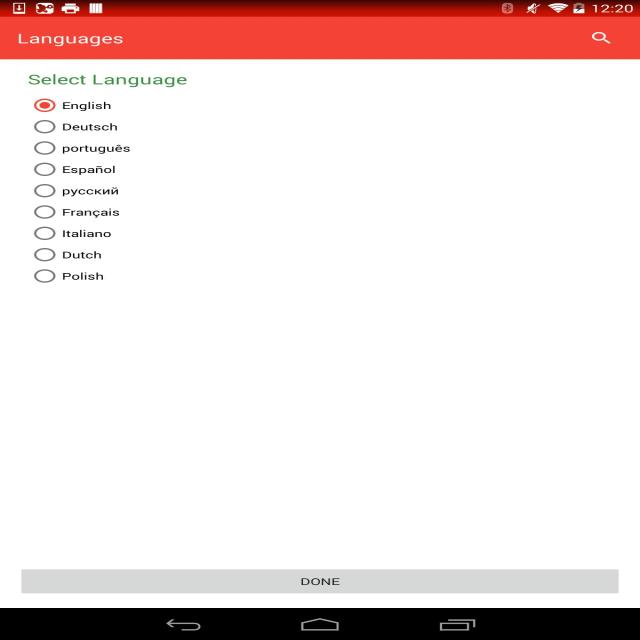button: (23, 570, 618, 594), (588, 28, 617, 50), (32, 97, 58, 113), (31, 119, 55, 135), (32, 268, 56, 284), (34, 182, 56, 198), (32, 141, 55, 155), (33, 247, 56, 261), (35, 204, 55, 220), (35, 225, 55, 241), (32, 163, 55, 176)
heading: (6, 26, 134, 51), (18, 32, 126, 48)
label: (60, 205, 122, 220), (59, 164, 120, 178), (59, 144, 134, 155), (58, 121, 120, 134), (60, 228, 113, 242), (58, 185, 122, 196), (60, 100, 114, 113), (60, 269, 107, 283), (60, 248, 105, 261)
text: (28, 72, 188, 90)
